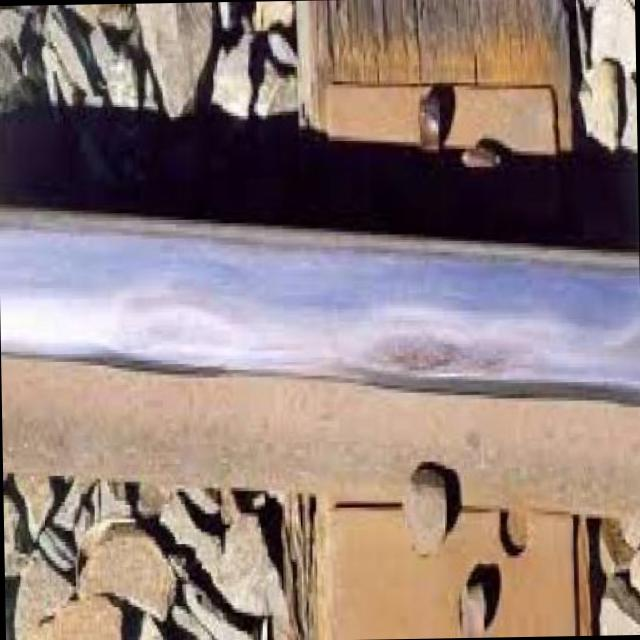defective: (0, 195, 640, 569)
